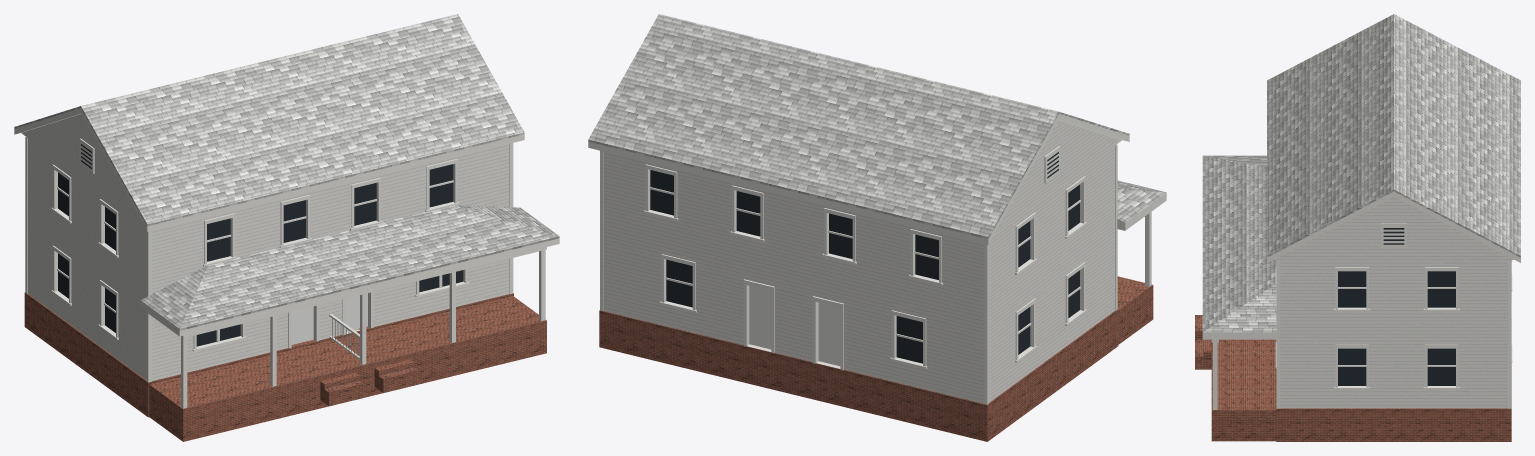
The model's file is duplex-two.glb.
3 views of the same model, side by side, from view 1: azimuth 30°, elevation 25°; view 2: azimuth 150°, elevation 25°; view 3: azimuth 270°, elevation 25° (orthographic). The views are drawn at different scales.
Visible parts, largest first — view 1: House; view 2: House; view 3: House.
Boxes of the visible parts, left/top/right/bottom form: House: left=14, top=14, right=559, bottom=441; House: left=588, top=14, right=1166, bottom=441; House: left=1195, top=14, right=1520, bottom=441.
Bounding box in the file's own units: 14 × 9.42 × 10.91.
6 materials, 3 textured.
